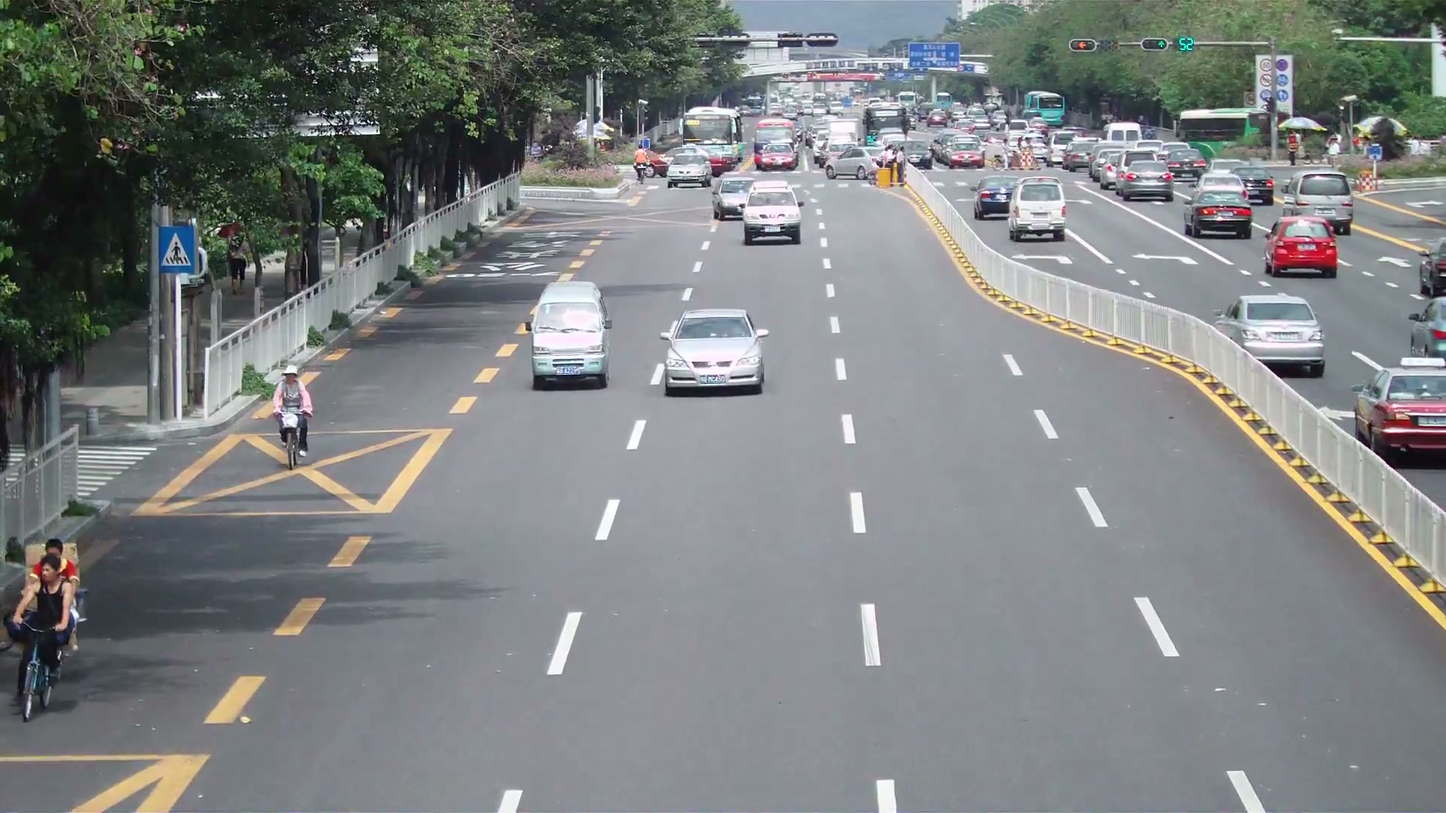car: (1351, 358, 1446, 465), (659, 309, 770, 396), (1214, 293, 1327, 377), (528, 280, 611, 389), (1262, 216, 1338, 279), (1283, 169, 1354, 234), (1007, 178, 1067, 243), (740, 184, 803, 245), (1185, 194, 1254, 240), (1118, 167, 1174, 203), (665, 148, 714, 189), (711, 174, 754, 220), (972, 174, 1014, 219), (826, 145, 875, 181), (1242, 174, 1275, 204)
motorcycle: (275, 405, 313, 468)
pedestrian: (8, 548, 79, 694), (272, 368, 315, 455)
